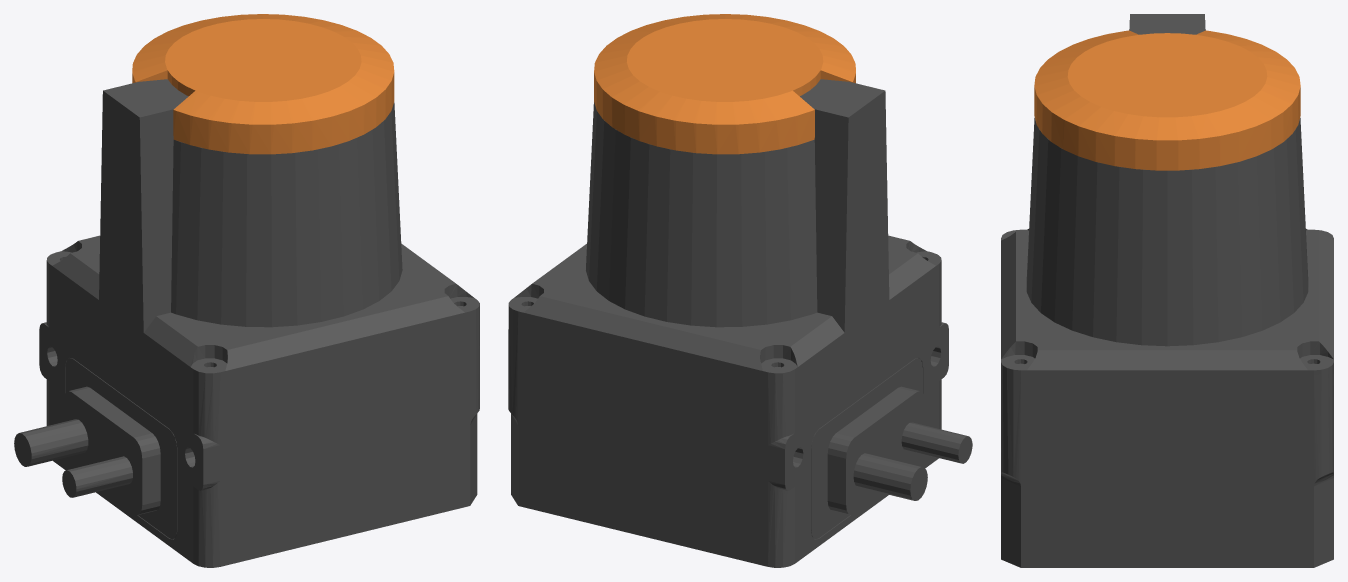
File: hokuyo.dae
The picture shows the model from 3 angles, left to right: view 1: azimuth 30°, elevation 25°; view 2: azimuth 150°, elevation 25°; view 3: azimuth 270°, elevation 25°; orthographic projection.
Visible parts, largest first — view 1: Hokuyo 1, Hokuyo 2; view 2: Hokuyo 1, Hokuyo 2; view 3: Hokuyo 1, Hokuyo 2.
Boxes of the visible parts, box(x1,y1,x2,y2) form: Hokuyo 1: box(14, 79, 479, 567); Hokuyo 2: box(132, 14, 394, 154); Hokuyo 1: box(508, 79, 972, 567); Hokuyo 2: box(594, 14, 855, 154); Hokuyo 1: box(1001, 14, 1333, 567); Hokuyo 2: box(1034, 30, 1300, 170).
Size of the model in its own units: 0.0632 by 0.05 by 0.07.
